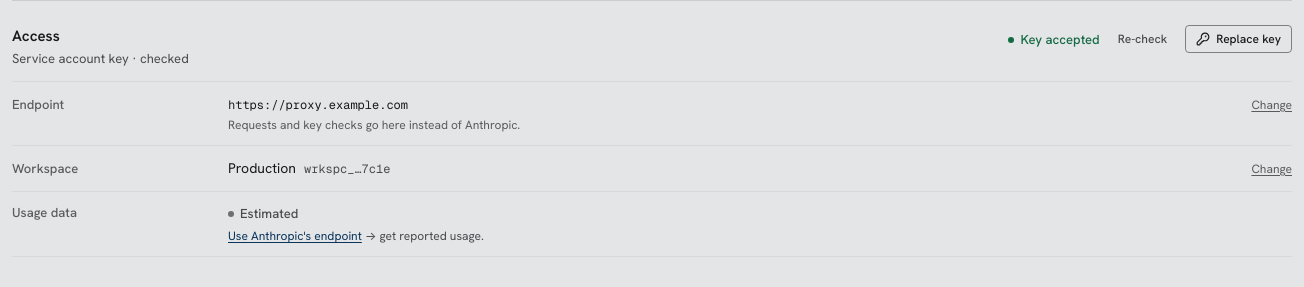
Test case: ApiKeyAccessSection rows › a custom endpoint's fix opens the Endpoint editor
Check: the text "https://proxy.example.com" is shown, box [228, 97, 408, 113]
Check: the element with test id "api-key-usage-mode" shows "Use Anthropic's endpoint → get reported usage.", box [12, 204, 484, 244]
Click the button "Use Anthropic's endpoint" at (295, 236), box [228, 228, 362, 244]
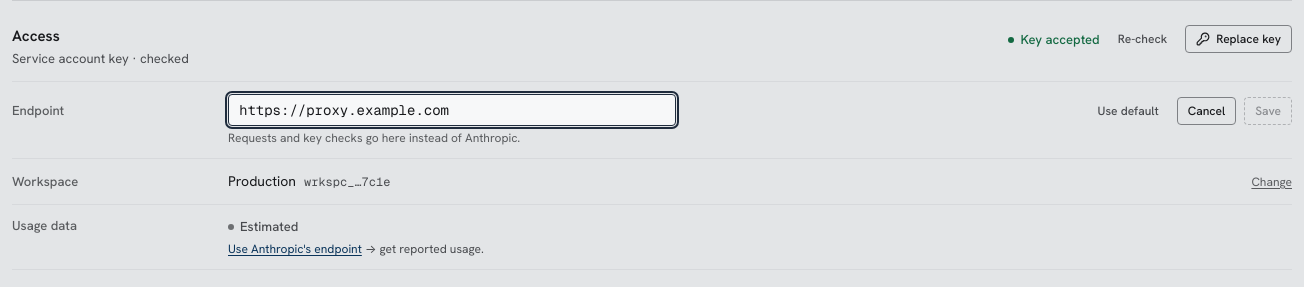
Check: the field named "Base URL" is shown, box [228, 94, 676, 126]
